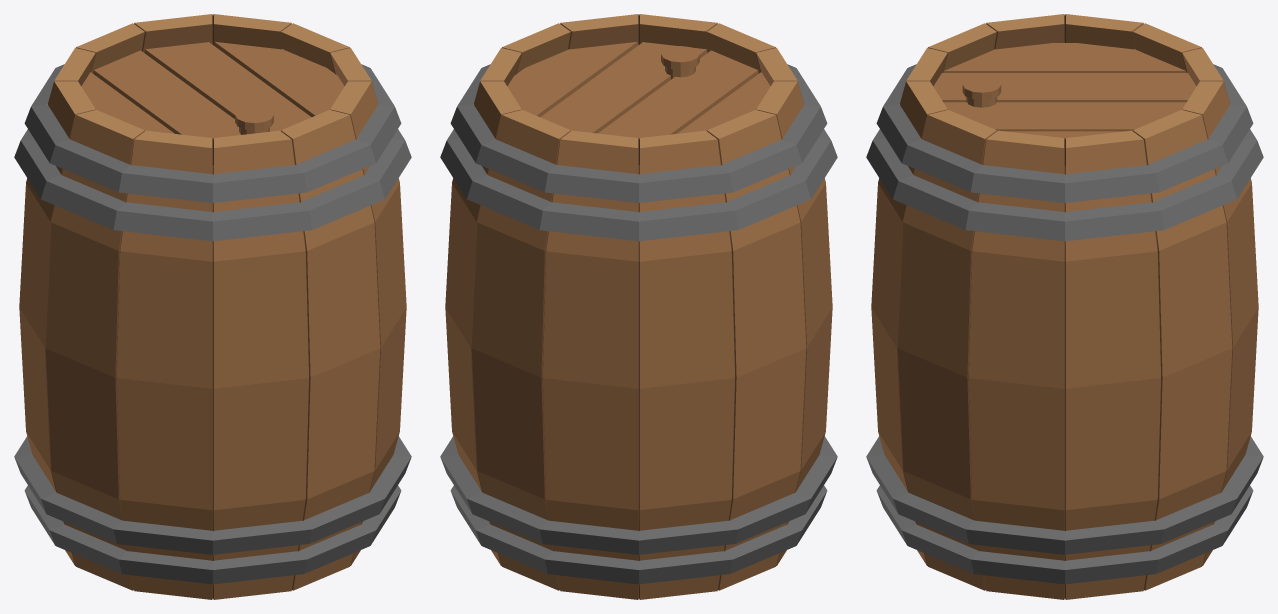
File: BarrelStandart.fbx
3 renders of one model, left to right at view 1: azimuth 30°, elevation 25°; view 2: azimuth 150°, elevation 25°; view 3: azimuth 270°, elevation 25°, orthographic.
Visible parts, largest first — view 1: BarrelStandart; view 2: BarrelStandart; view 3: BarrelStandart.
Part boxes in pixels (x1,y1,x2,y2): BarrelStandart: [14, 14, 411, 599]; BarrelStandart: [440, 14, 837, 599]; BarrelStandart: [866, 14, 1263, 599].
Bounding box in the file's own units: 71.78 × 90 × 71.78.
